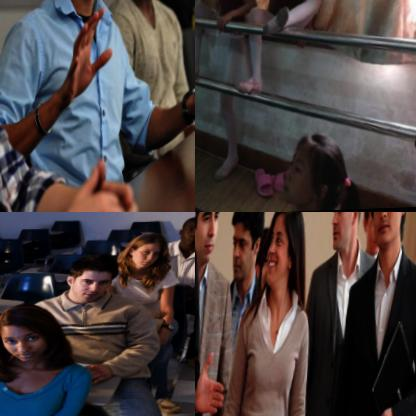head: (283, 125, 353, 208), (261, 212, 311, 310), (0, 304, 66, 368), (225, 212, 269, 291), (63, 257, 115, 303), (365, 212, 416, 258), (324, 212, 367, 263), (123, 231, 166, 273), (195, 212, 226, 264), (177, 216, 195, 246)
